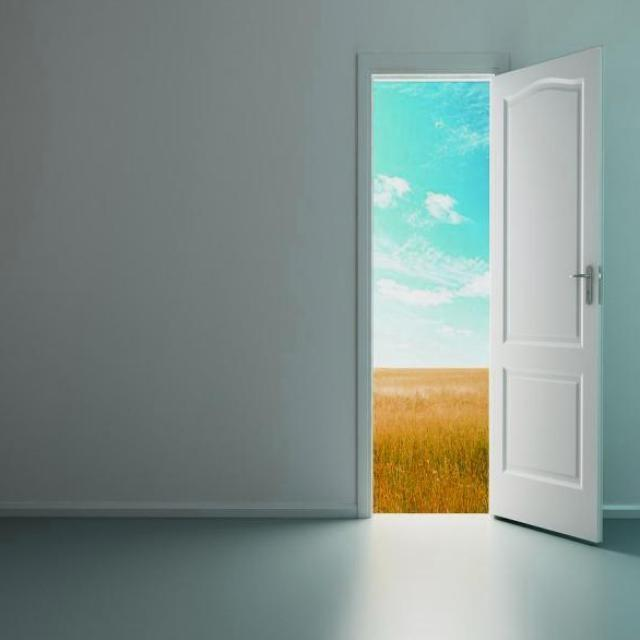door: (487, 44, 604, 545)
